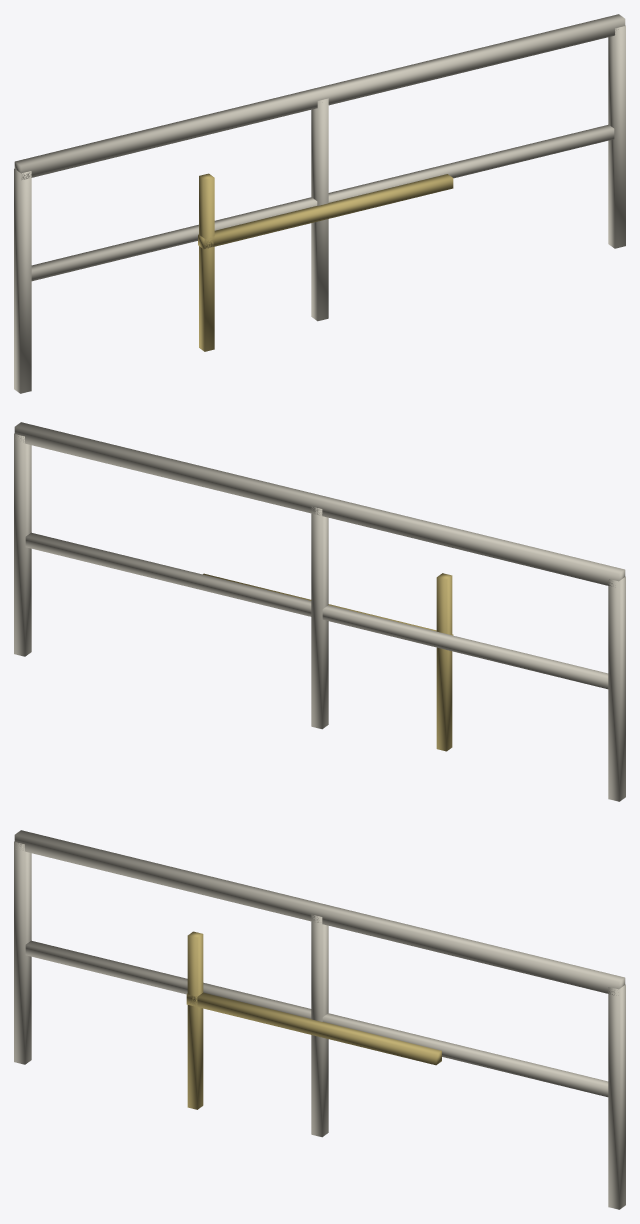
File: civic_gate_l240_h85.glb
3 renders of one model, top to bottom at view 1: azimuth 30°, elevation 25°; view 2: azimuth 150°, elevation 25°; view 3: azimuth 330°, elevation 25°, orthographic.
Parts seen in each view (by area): view 1: world; view 2: world; view 3: world.
Boxes of the visible parts, x1,y1,x2,y2 form: world: (14, 14, 625, 393); world: (14, 422, 625, 801); world: (14, 830, 625, 1209).
Size of the model in its own units: 2.44 by 0.8775 by 0.0825.
